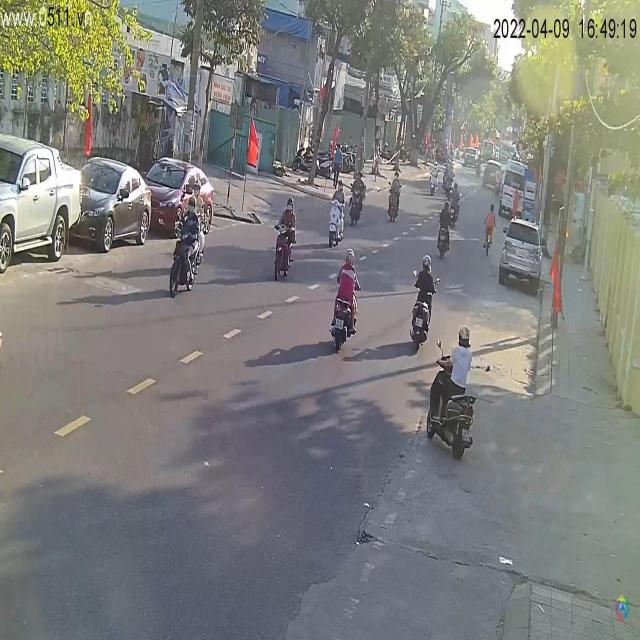car: (1, 133, 82, 276), (70, 158, 155, 254), (143, 157, 215, 237), (499, 218, 542, 296), (498, 161, 538, 222)
motorcycle: (423, 341, 477, 460), (164, 221, 207, 298), (272, 212, 300, 282), (329, 299, 358, 351), (325, 190, 347, 248), (411, 299, 434, 346), (386, 181, 401, 224), (436, 226, 451, 259)
